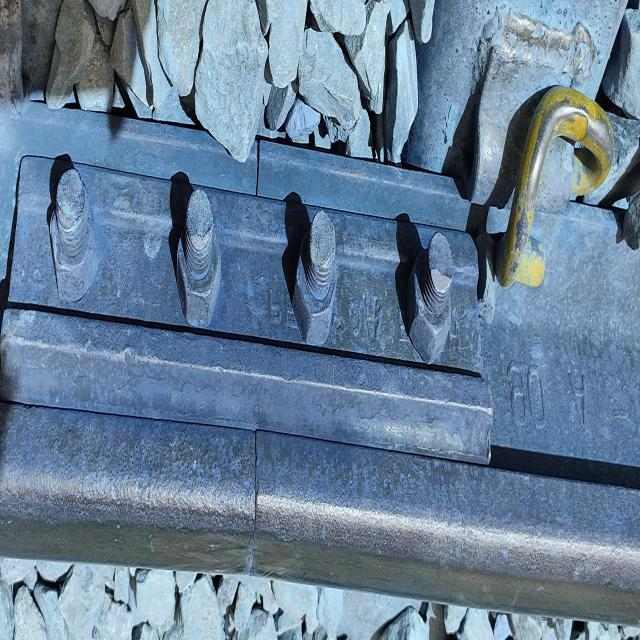Good Fasteners: (442, 0, 625, 287)
Good Joint: (0, 156, 493, 443)
